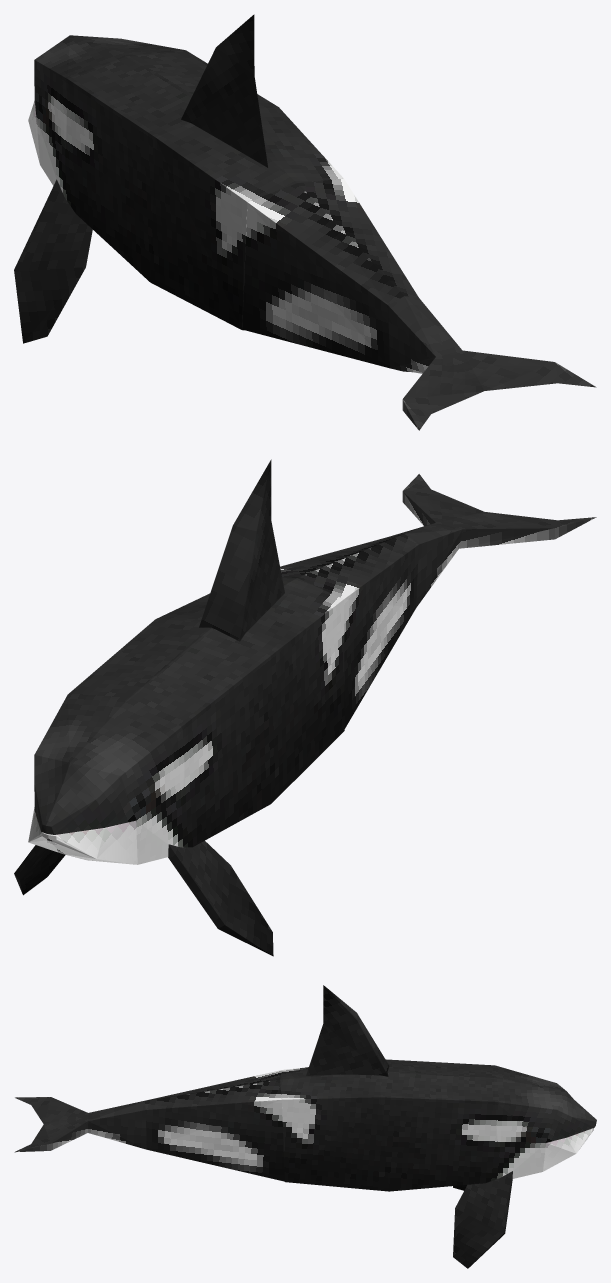
Rendered from Orca_Orca.glb.
The picture shows the model from 3 angles, top to bottom: view 1: azimuth 30°, elevation 25°; view 2: azimuth 150°, elevation 25°; view 3: azimuth 270°, elevation 25°; orthographic projection. The views are drawn at different scales.
Parts seen in each view (by area): view 1: Body, Tail1, Tail2; view 2: Body, Tail1, Tail2, Jaw; view 3: Body, Tail1, Tail2, Jaw.
Part boxes in pixels (x1,y1,x2,y2): Body: (14,14,343,343); Tail1: (242,178,418,368); Tail2: (388,296,596,430); Body: (14,459,344,956); Tail1: (280,534,418,728); Tail2: (390,474,596,607); Jaw: (28,807,137,864); Body: (280,985,596,1268); Tail1: (144,1070,284,1181); Tail2: (14,1097,146,1152); Jaw: (543,1128,593,1171).
Size of the model in its own units: 1.6 by 2.34 by 5.1.
Materials: 1 (1 with a texture image).
